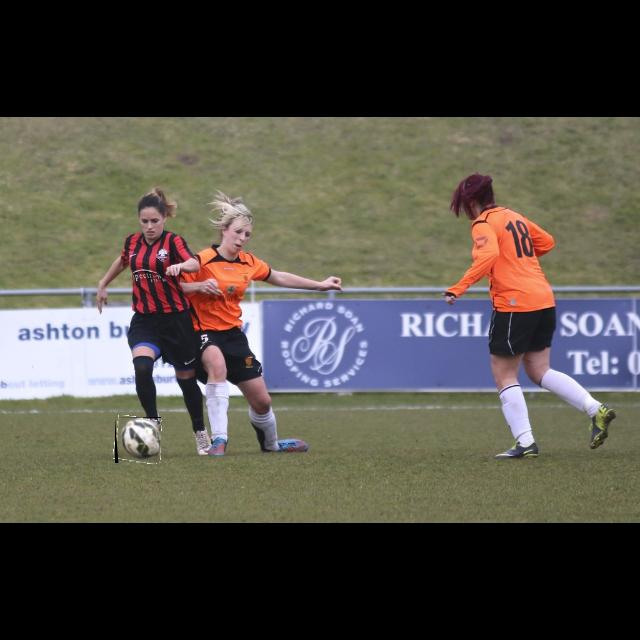Football: (115, 417, 161, 463)
